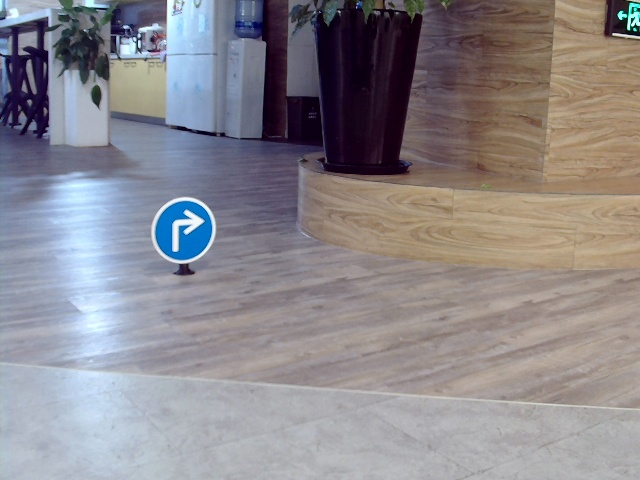turn_right: (167, 209, 203, 252)
